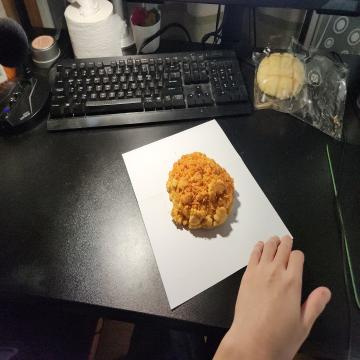soboru_bread: (166, 151, 234, 233)
